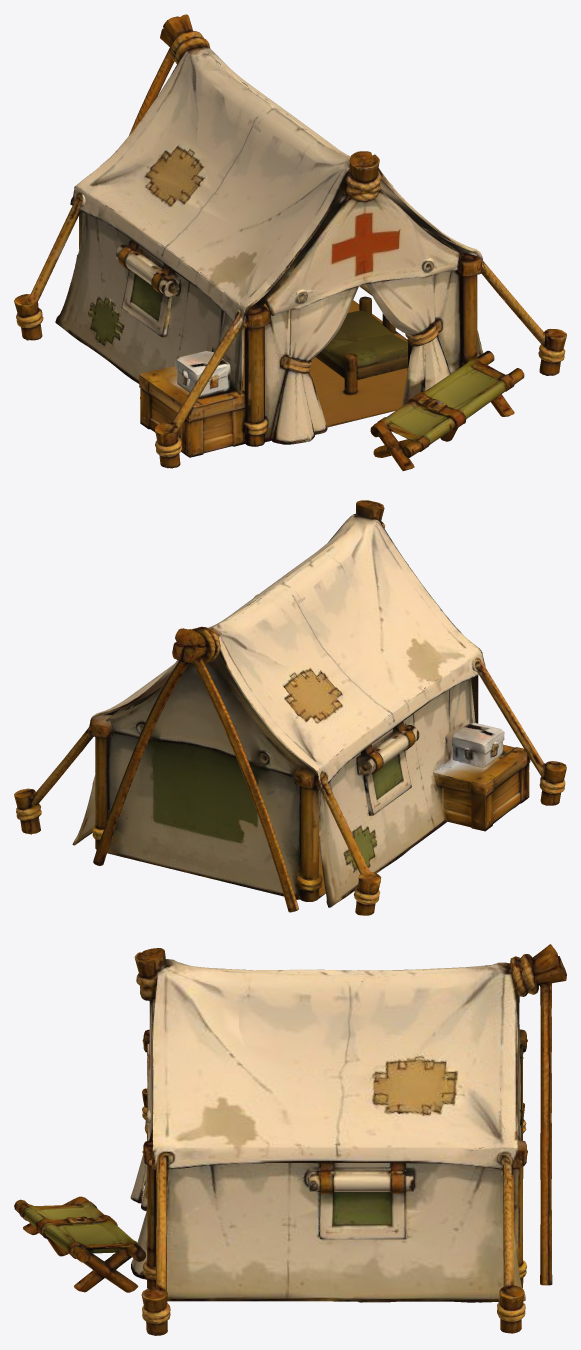
File: medical_tent.glb
3 renders of one model, top to bottom at view 1: azimuth 30°, elevation 25°; view 2: azimuth 150°, elevation 25°; view 3: azimuth 270°, elevation 25°, orthographic. The views are drawn at different scales.
Parts seen in each view (by area): view 1: building; view 2: building; view 3: building.
Part boxes in pixels (left/top/right/bottom): building: left=14, top=14, right=566, bottom=470; building: left=14, top=500, right=566, bottom=915; building: left=14, top=944, right=566, bottom=1335.
Size of the model in its own units: 2.2 by 1.42 by 2.41.
Materials: 1 (1 with a texture image).
